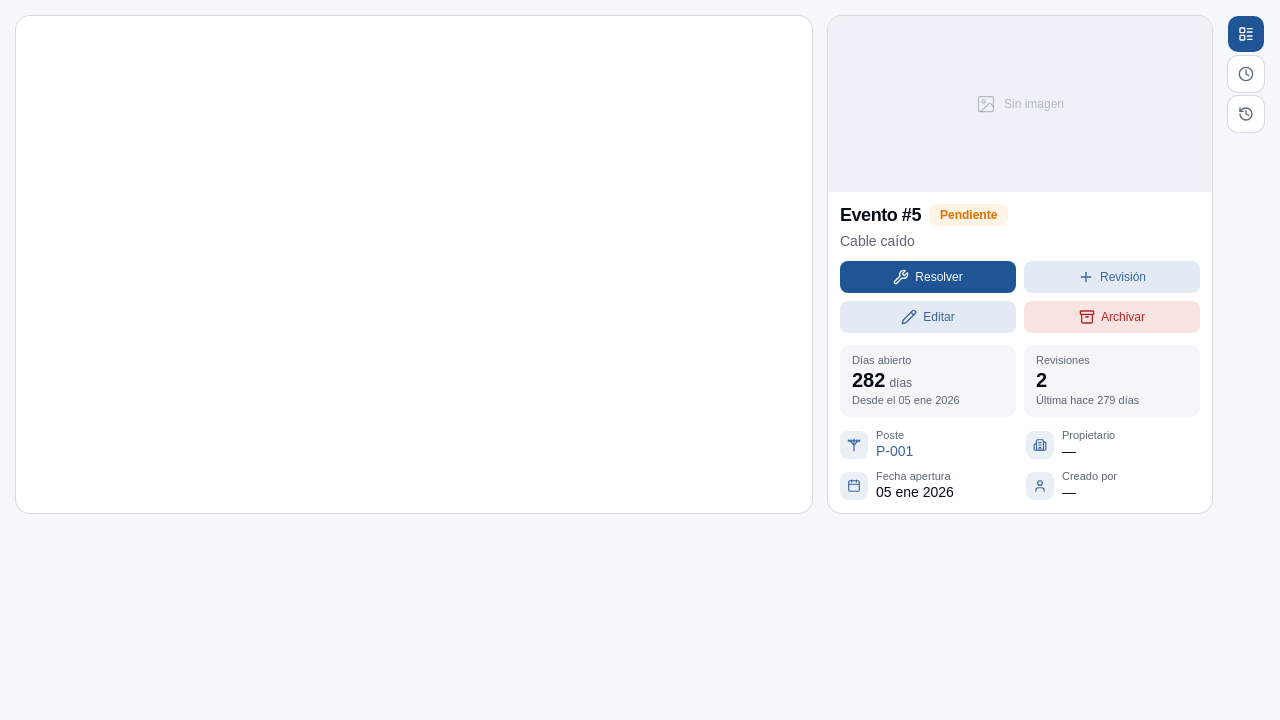
Test: the views of an incident's sheet › gives the activity the whole panel, counted on the rail, the latest first
Click the tab named "Actividad (2)".
click(1246, 74)  # box left=1228, top=56, right=1264, bottom=92
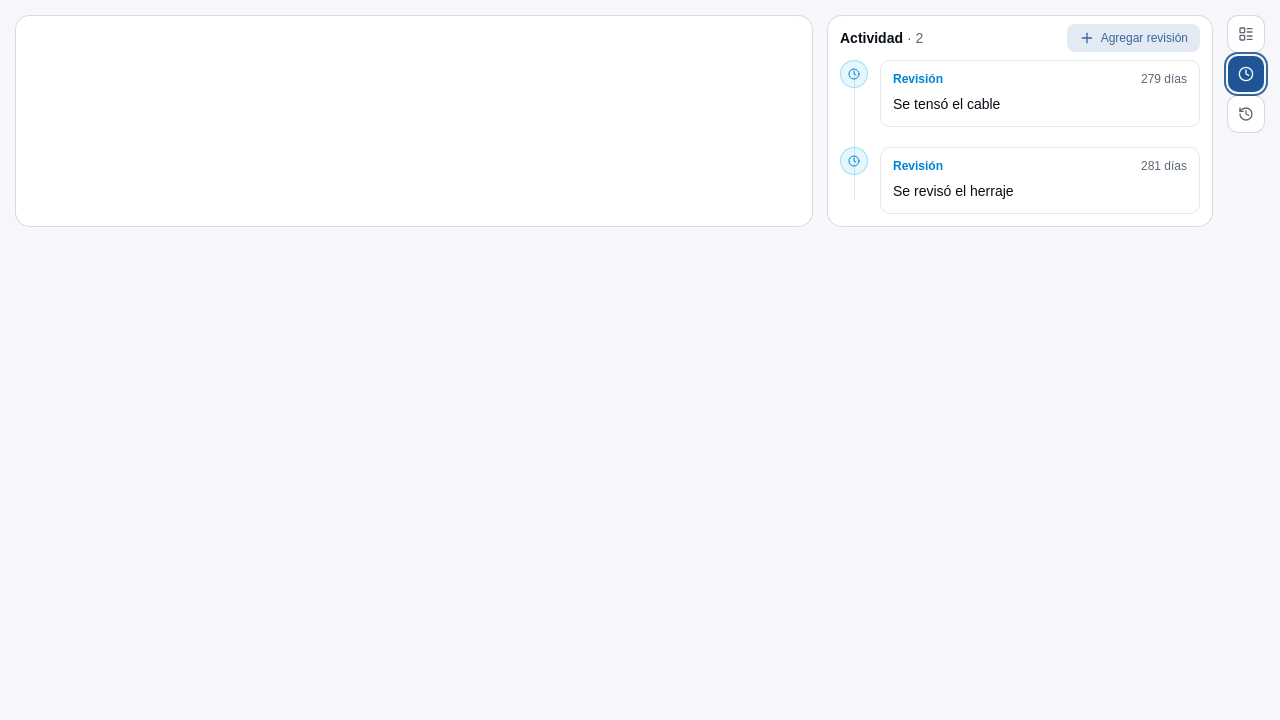
Check: the elements "Se " read "Se tensó el cable", "Se revisó el herraje", in this order, box left=893, top=96, right=1000, bottom=112; left=893, top=183, right=1014, bottom=199
Check: the heading "Evento #5" is gone
